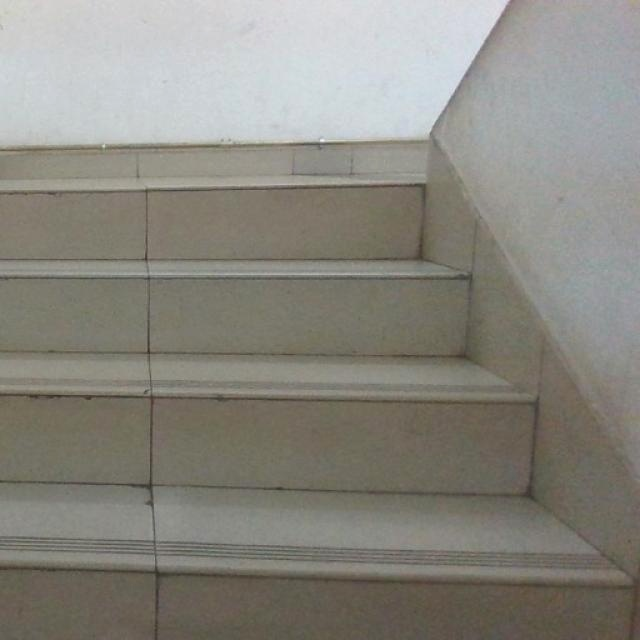stair: (6, 150, 640, 634)
